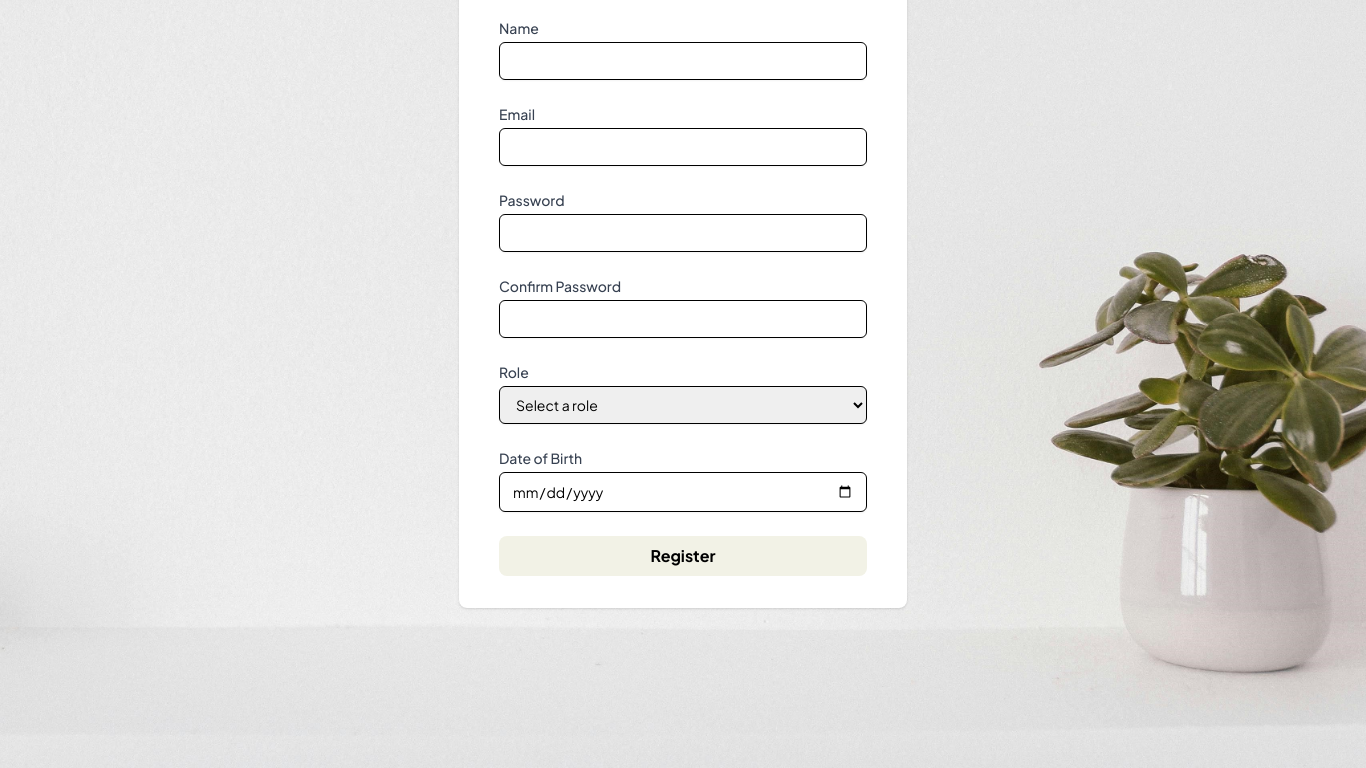
it: Register Page › validates required fields
The image size is (1366, 768).
(page scrolled)
Click the button "Register": (683, 556) [499, 536, 867, 576]
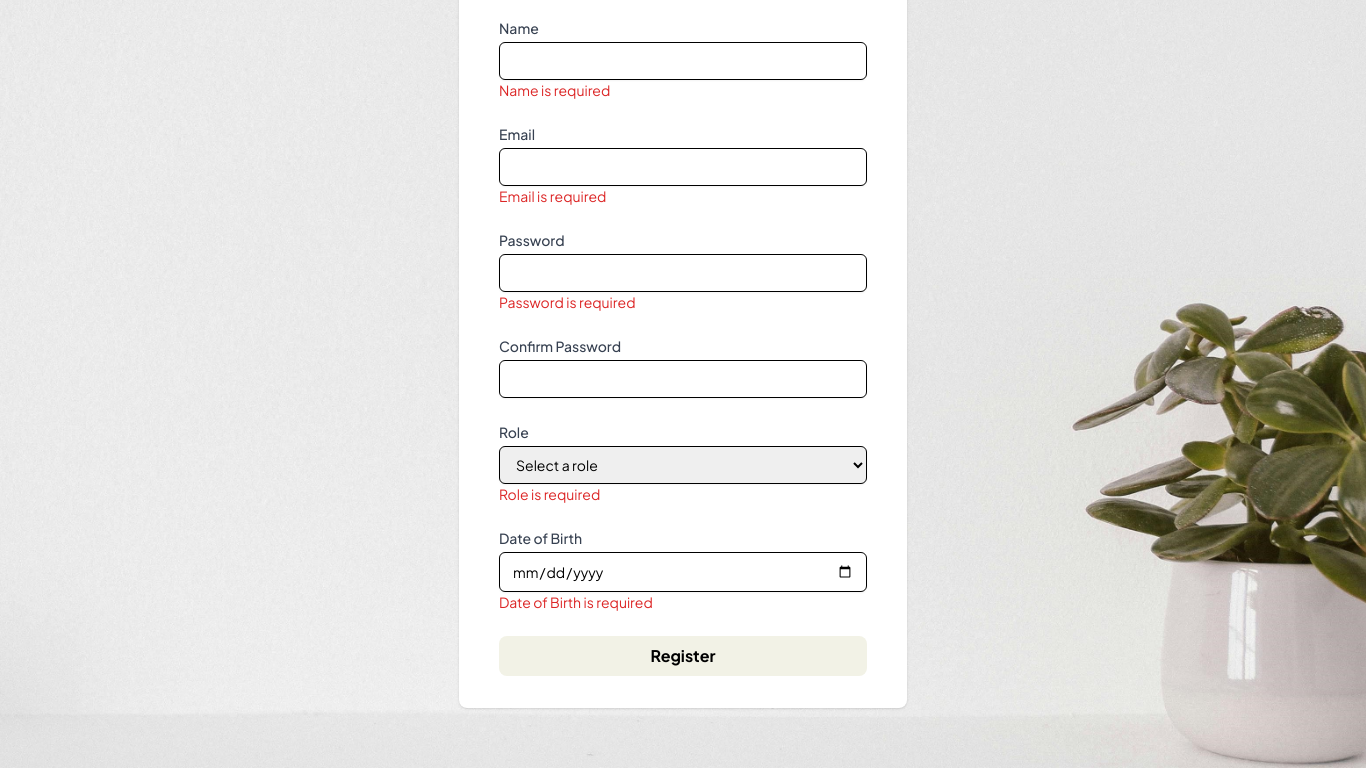
Expected: the text "Name is required" is shown, [499, 81, 610, 99]
Expected: the text "Email is required" is shown, [499, 187, 606, 205]
Expected: the text "Password is required" is shown, [499, 293, 636, 311]
